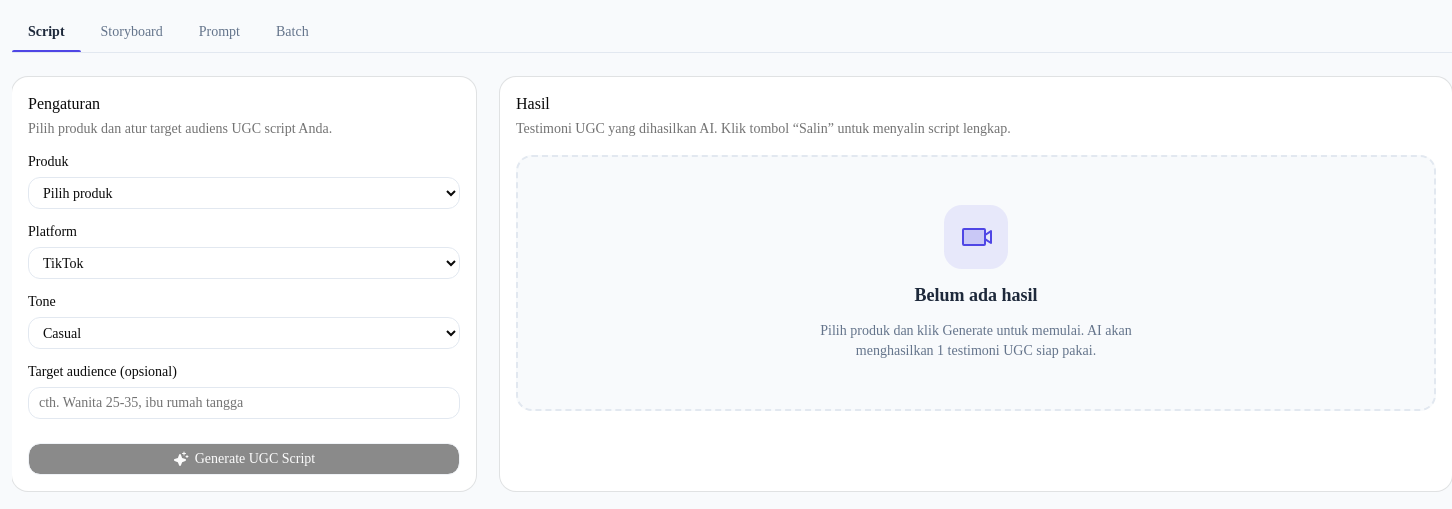
UgcGenerator › switches to the Prompt tab and shows style + mood selectors
Click the tab "Prompt" at (219, 32), box [183, 12, 256, 52]
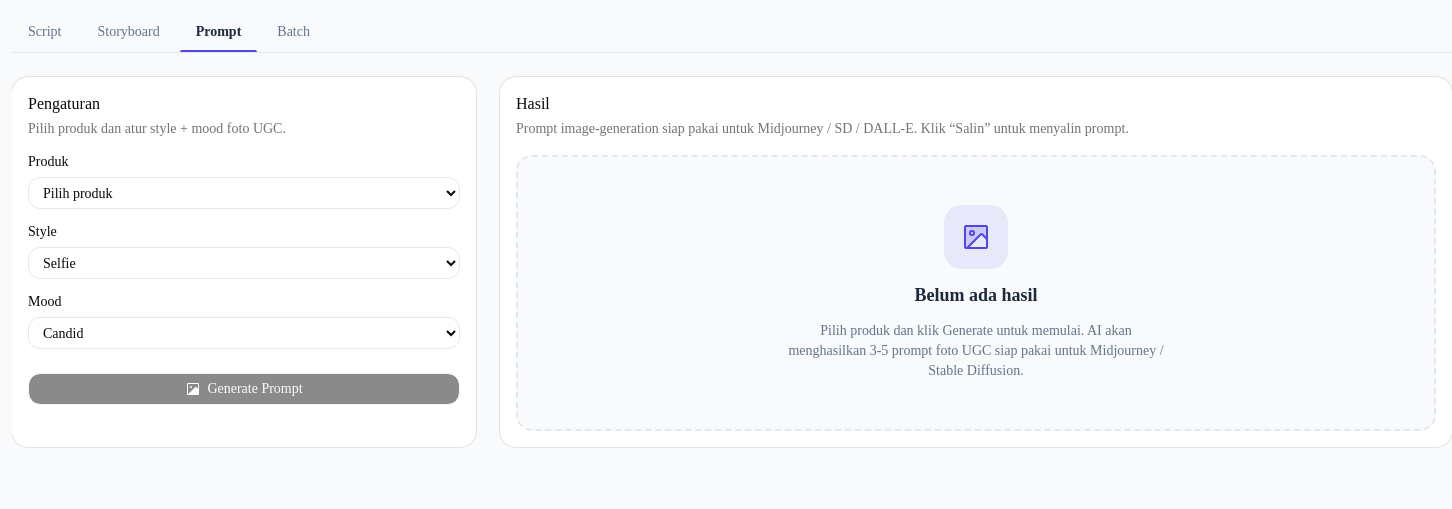
Check: the dropdown labelled "Style" is shown, box [28, 247, 460, 279]
Check: the dropdown labelled "Mood" is shown, box [28, 317, 460, 349]
Check: the label labelled "Platform" is gone
